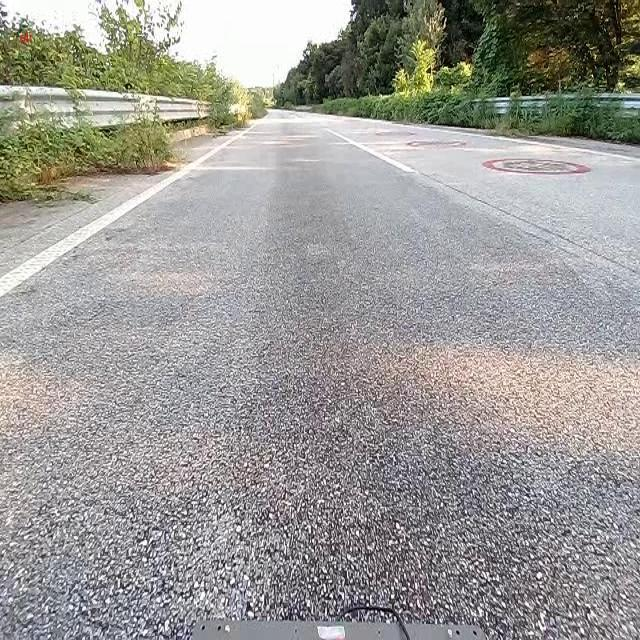Lane: (0, 107, 252, 300), (0, 130, 246, 297), (318, 113, 432, 185), (328, 130, 416, 173)
